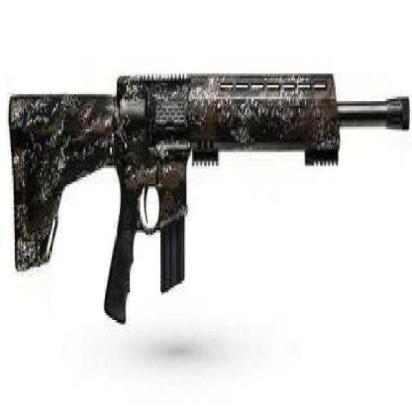Gun: (2, 67, 412, 331)
